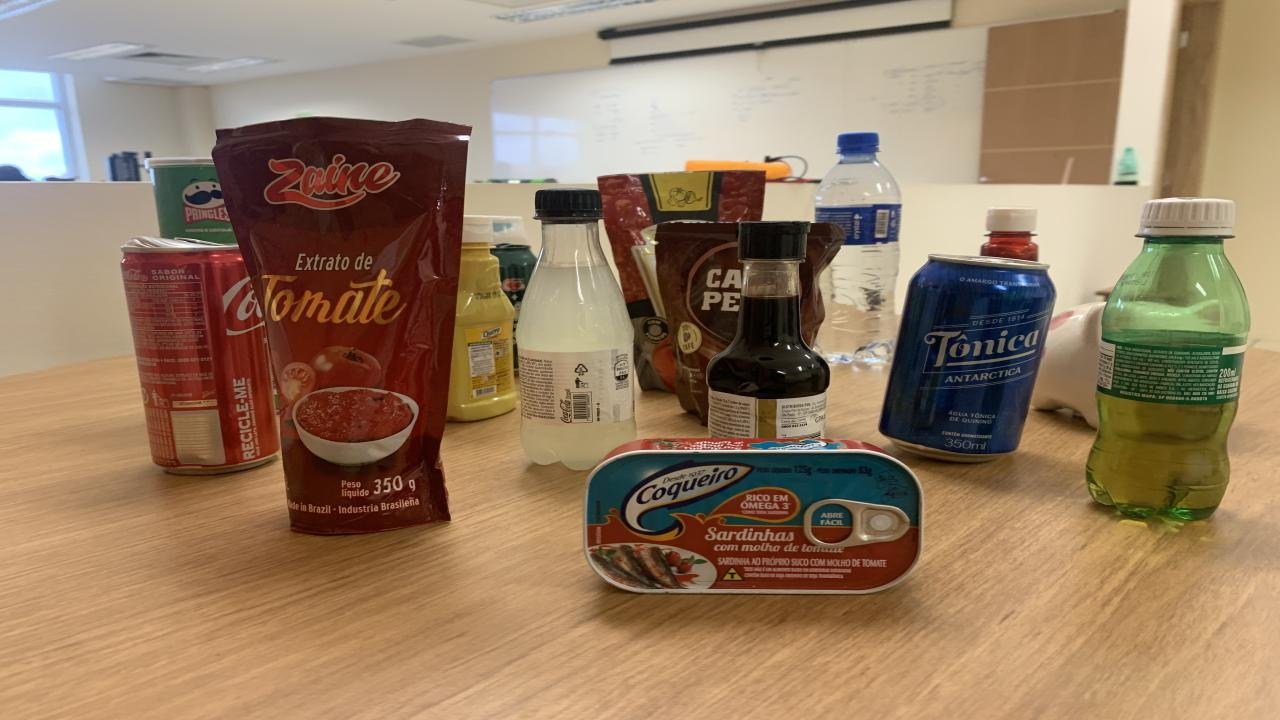Cleaner-Cleanup_Items: (490, 216, 530, 246)
Coffee-Pantry_Items: (655, 221, 742, 422), (800, 223, 845, 345)
Coke-Drinks: (120, 236, 280, 474)
English_Sauce-Pantry_Items: (708, 221, 830, 439)
Guarana-Drinks: (1088, 197, 1250, 521)
Guarana_Can-Drinks: (490, 244, 538, 311)
Ketchup-Pantry_Items: (980, 206, 1038, 261)
Mustard-Pantry_Items: (448, 216, 518, 422)
Pig_Safe-Miscellaneous: (1030, 302, 1105, 428)
Pringles-Snacks: (145, 158, 235, 244)
Soda-Drinks: (515, 189, 635, 469)
Tomato_Sauce-Pantry_Items: (212, 118, 470, 534), (598, 171, 765, 392)
Tonic-Drinks: (880, 255, 1055, 461)
Tuna_Can-Pantry_Items: (585, 439, 922, 594), (860, 289, 862, 291)
Water_Bottle-Drinks: (815, 133, 902, 364)
